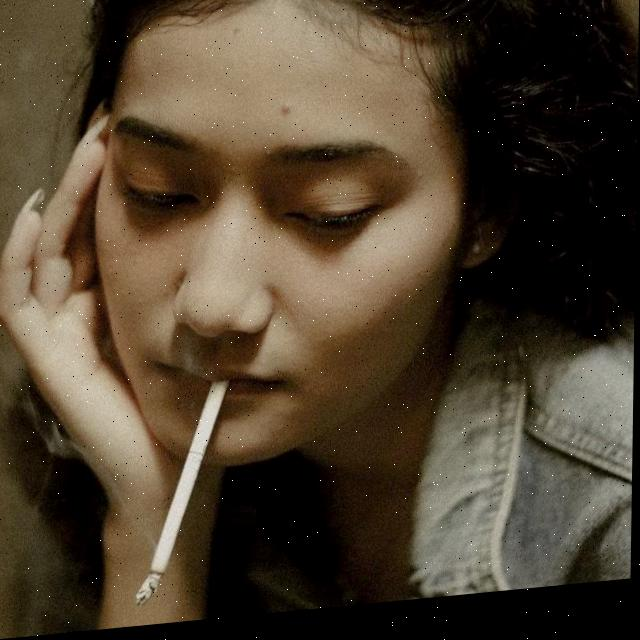cigarette: (136, 386, 232, 612)
